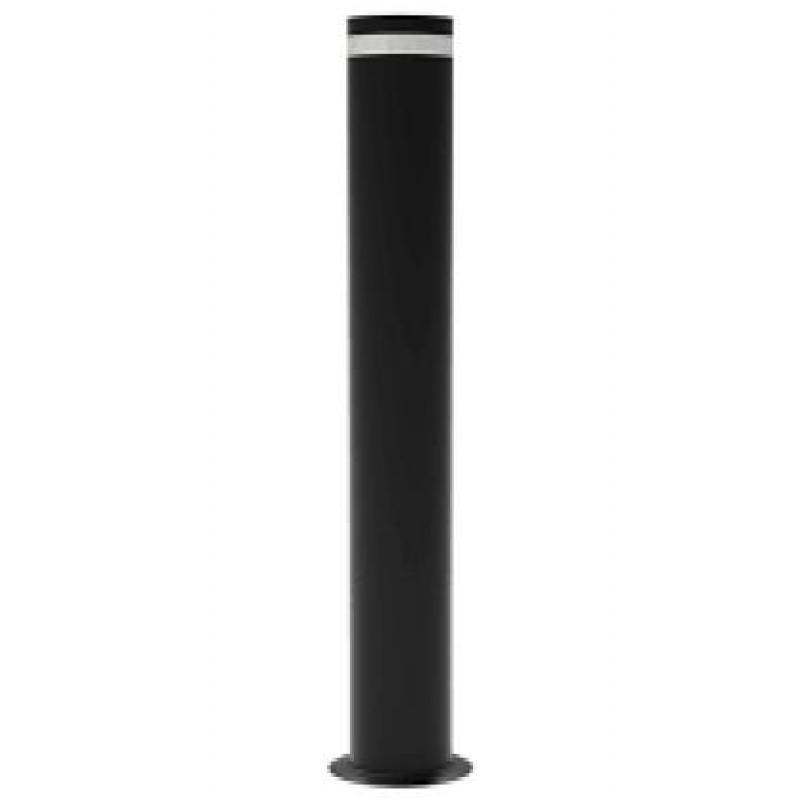bolard: (321, 12, 470, 784)
